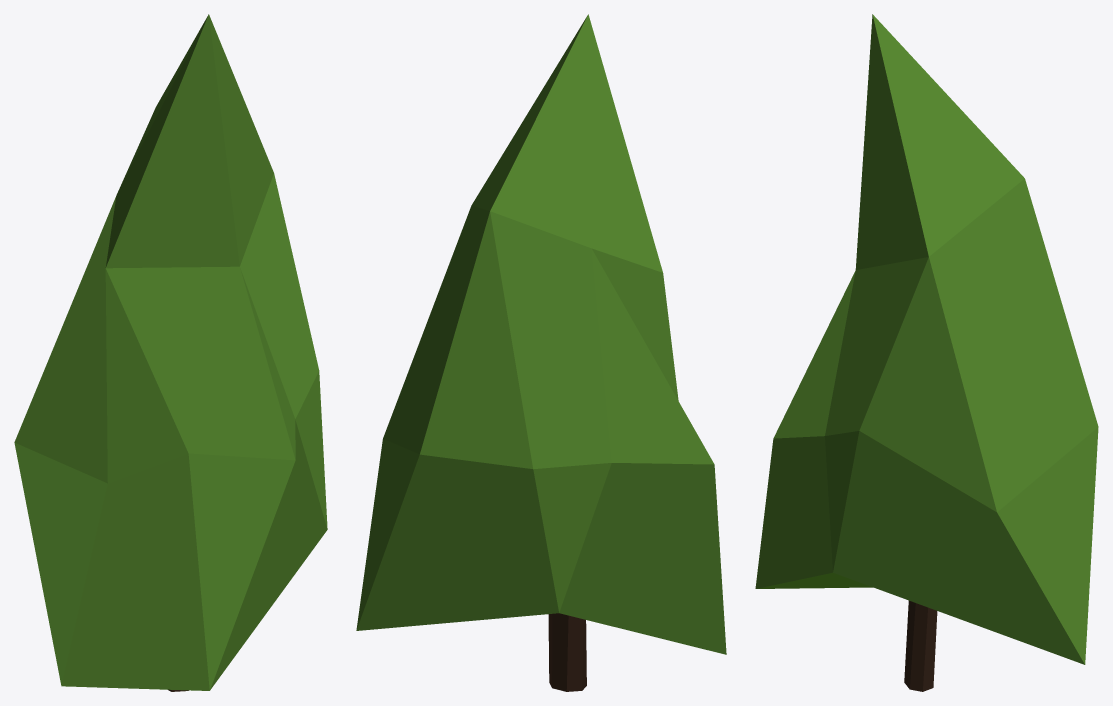
File: TreeAutumn8_Alt4.fbx
3 views of the same model, side by side, from view 1: azimuth 30°, elevation 25°; view 2: azimuth 150°, elevation 25°; view 3: azimuth 270°, elevation 25° (orthographic). The views are drawn at different scales.
Visible parts, largest first — view 1: TreeAutumn8_Alt4; view 2: TreeAutumn8_Alt4; view 3: TreeAutumn8_Alt4.
Boxes of the visible parts, box(x1,y1,x2,y2) form: TreeAutumn8_Alt4: box(14, 14, 327, 691); TreeAutumn8_Alt4: box(356, 14, 726, 691); TreeAutumn8_Alt4: box(755, 14, 1098, 691).
Size of the model in its own units: 1.32 by 2.74 by 1.27.
